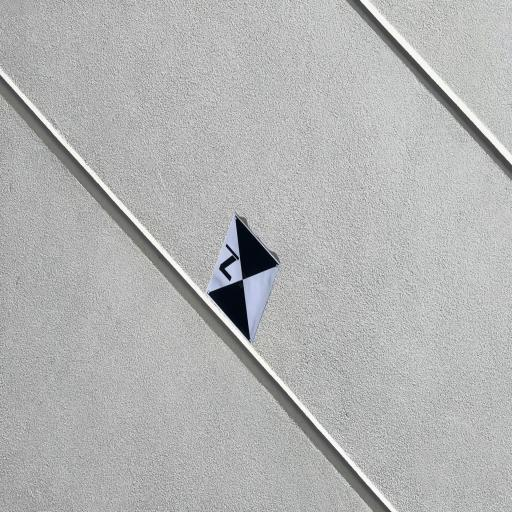target7: (205, 213, 280, 346)
